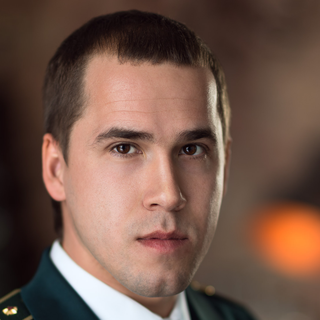eye: (101, 136, 147, 163), (173, 136, 213, 163)
